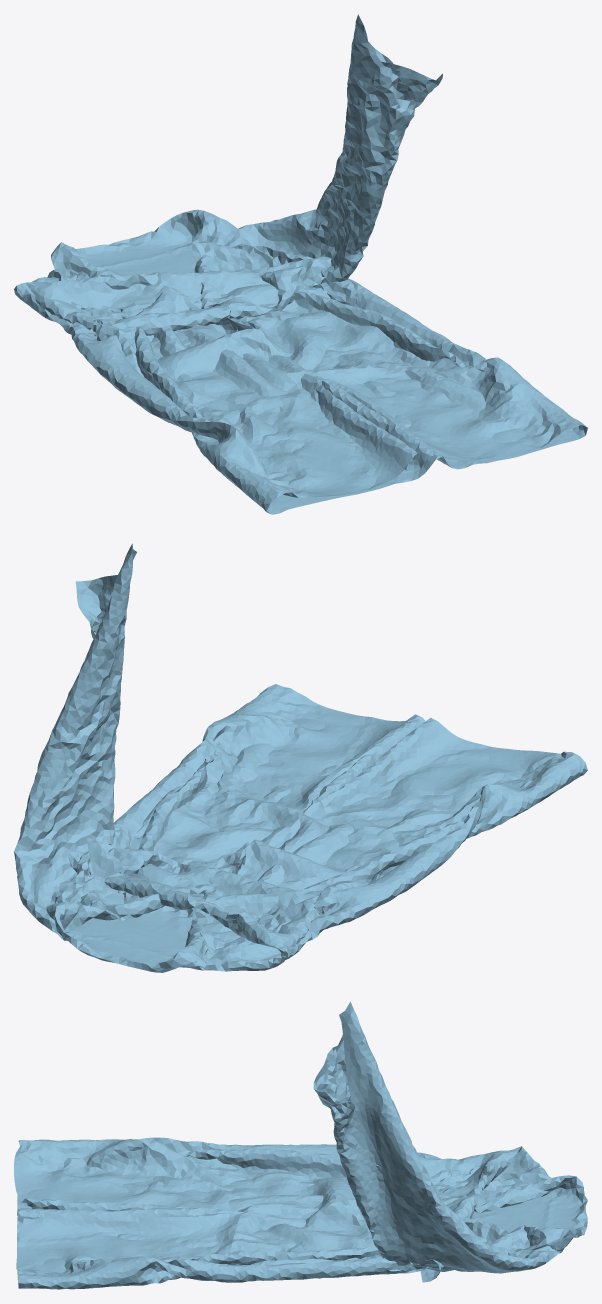
Rendered from frame_10.glb.
The picture shows the model from 3 angles, top to bottom: view 1: azimuth 30°, elevation 25°; view 2: azimuth 150°, elevation 25°; view 3: azimuth 270°, elevation 25°; orthographic projection. The views are drawn at different scales.
Visible parts, largest first — view 1: frame_10.obj; view 2: frame_10.obj; view 3: frame_10.obj.
Part boxes in pixels (x1=…): frame_10.obj: x1=14, y1=14, x2=587, y2=514; frame_10.obj: x1=14, y1=543, x2=587, y2=972; frame_10.obj: x1=14, y1=1002, x2=587, y2=1289.
Bounding box in the file's own units: 1.03 × 0.8638 × 1.65.
